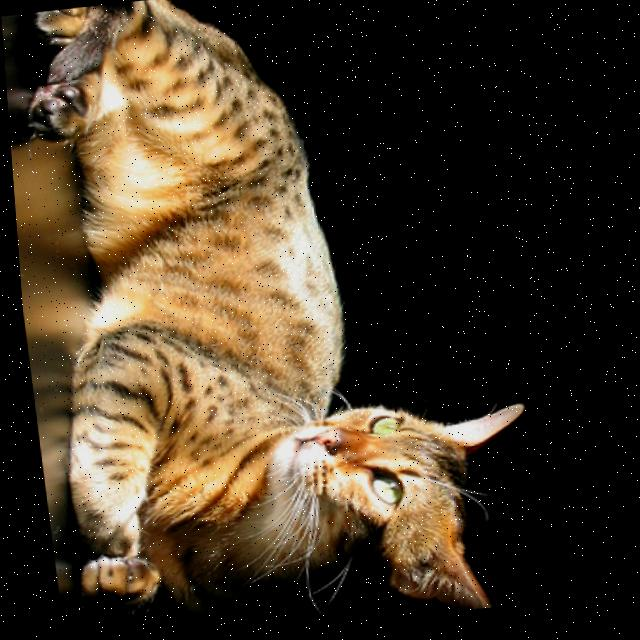Egyptian Mau: (0, 0, 544, 640)
